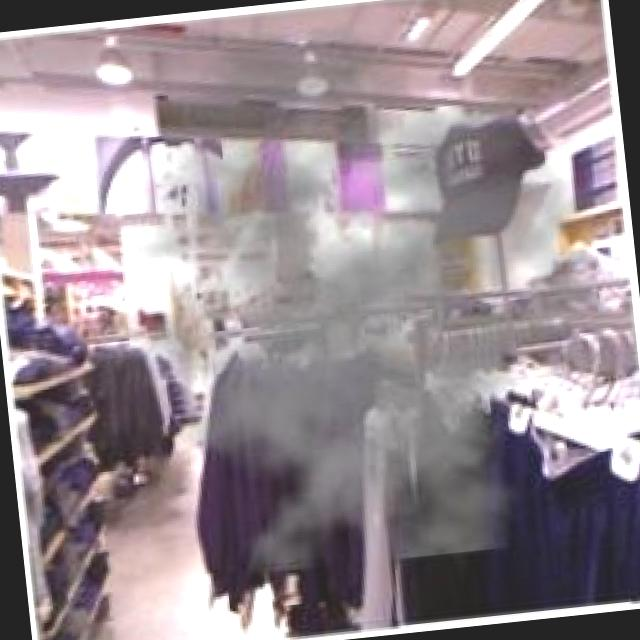smoke: (183, 149, 516, 560)
